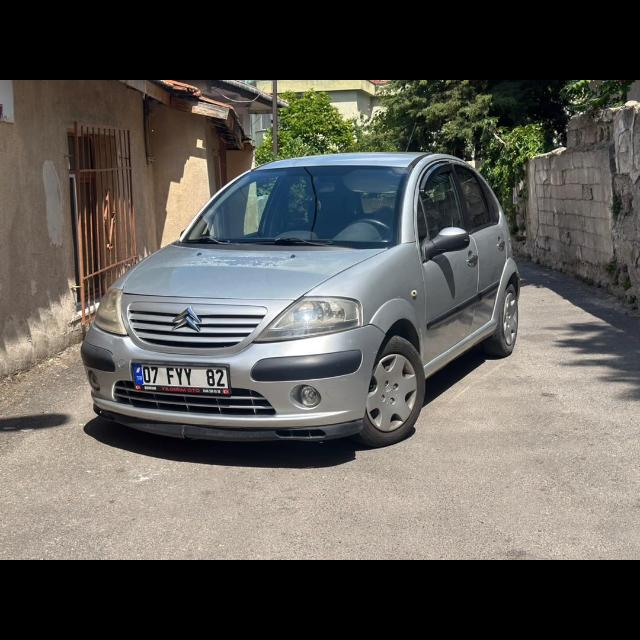Plaka: (137, 362, 231, 386)
